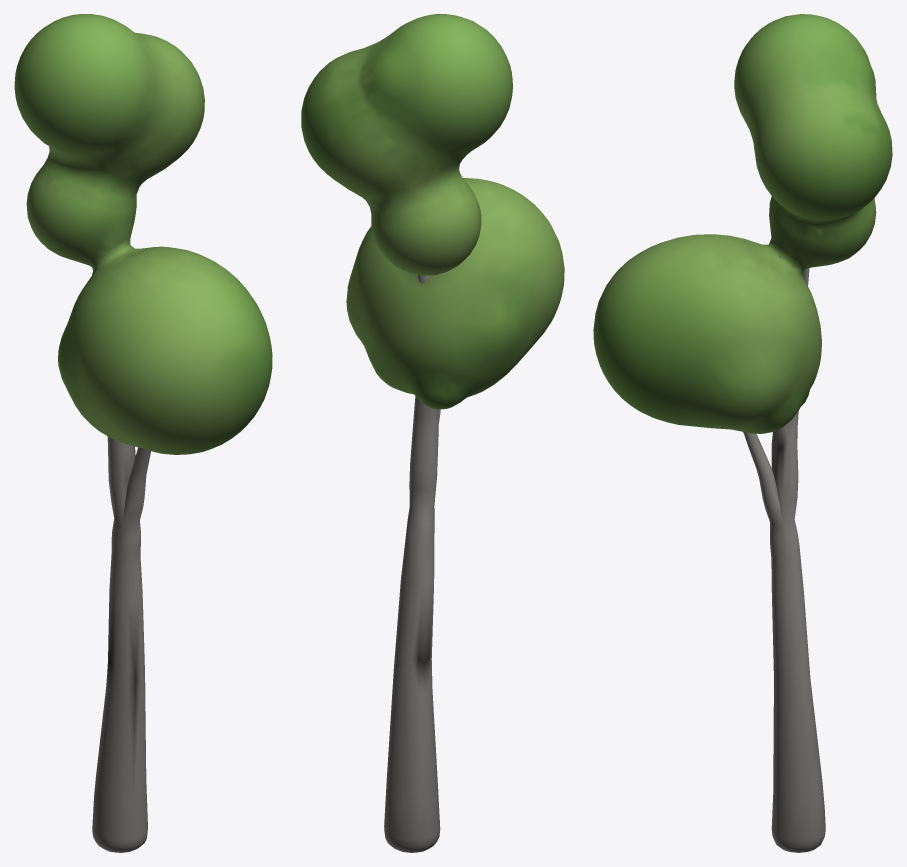
The model's file is tree_08_3.glb.
The picture shows the model from 3 angles, left to right: view 1: azimuth 30°, elevation 25°; view 2: azimuth 150°, elevation 25°; view 3: azimuth 270°, elevation 25°; orthographic projection. The views are drawn at different scales.
Visible parts, largest first — view 1: canopy, bark; view 2: canopy, bark; view 3: canopy, bark.
Part boxes in pixels (x1=…): canopy: x1=14, y1=14, x2=272, y2=454; bark: x1=92, y1=436, x2=150, y2=852; canopy: x1=301, y1=14, x2=564, y2=409; bark: x1=384, y1=274, x2=440, y2=852; canopy: x1=593, y1=14, x2=892, y2=433; bark: x1=743, y1=268, x2=825, y2=852.
Bounding box in the file's own units: 0.9387 × 4.07 × 1.36.
